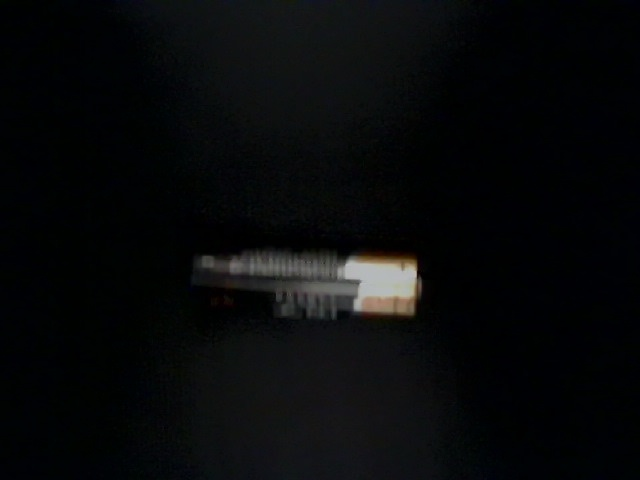QTLJ: (374, 286, 613, 460)
